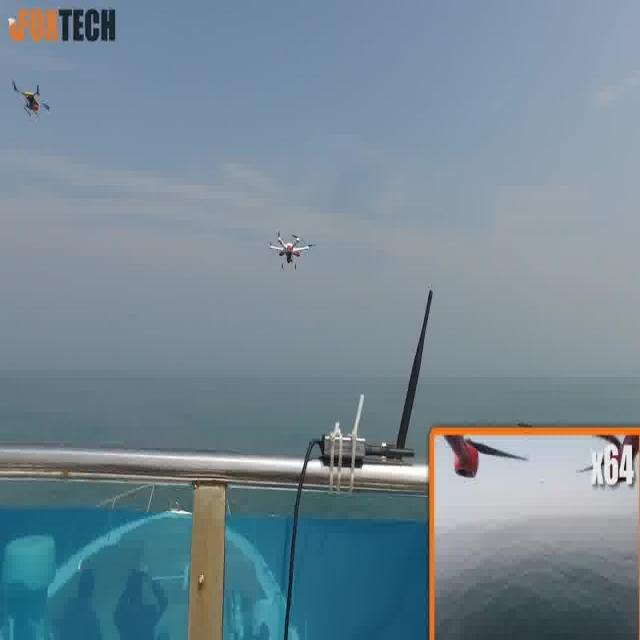drone: (268, 217, 317, 272)
